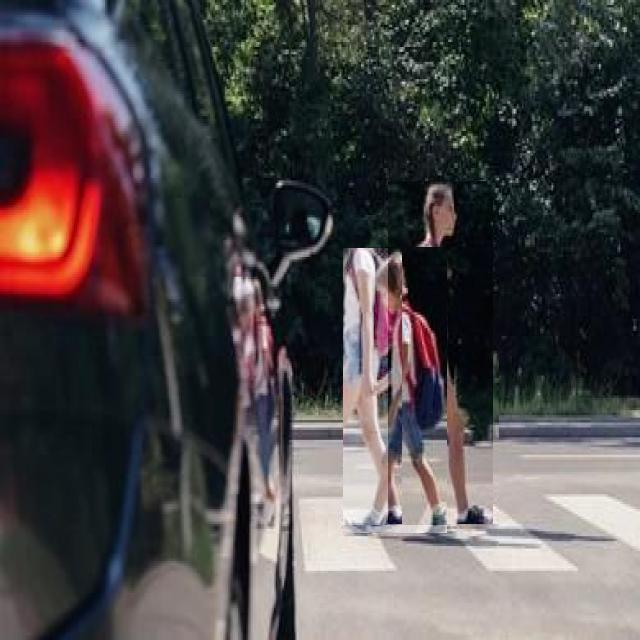without scooter: (388, 182, 493, 526), (343, 248, 447, 533)
